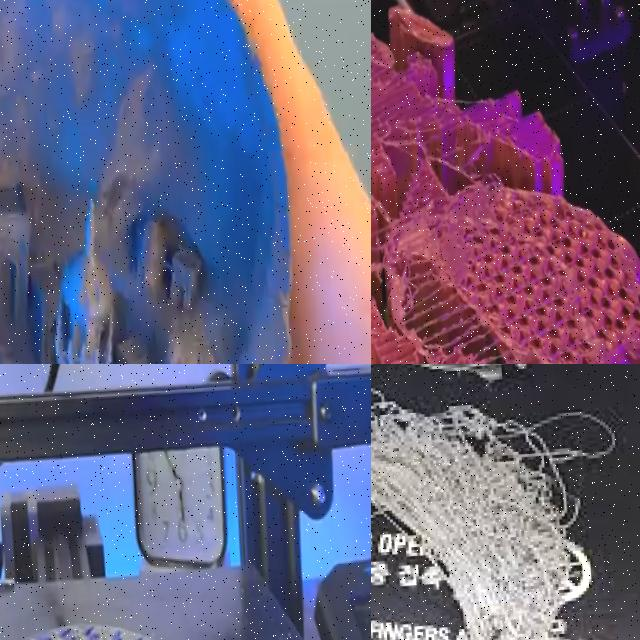spaghetti: (371, 364, 620, 640), (371, 74, 517, 360)
